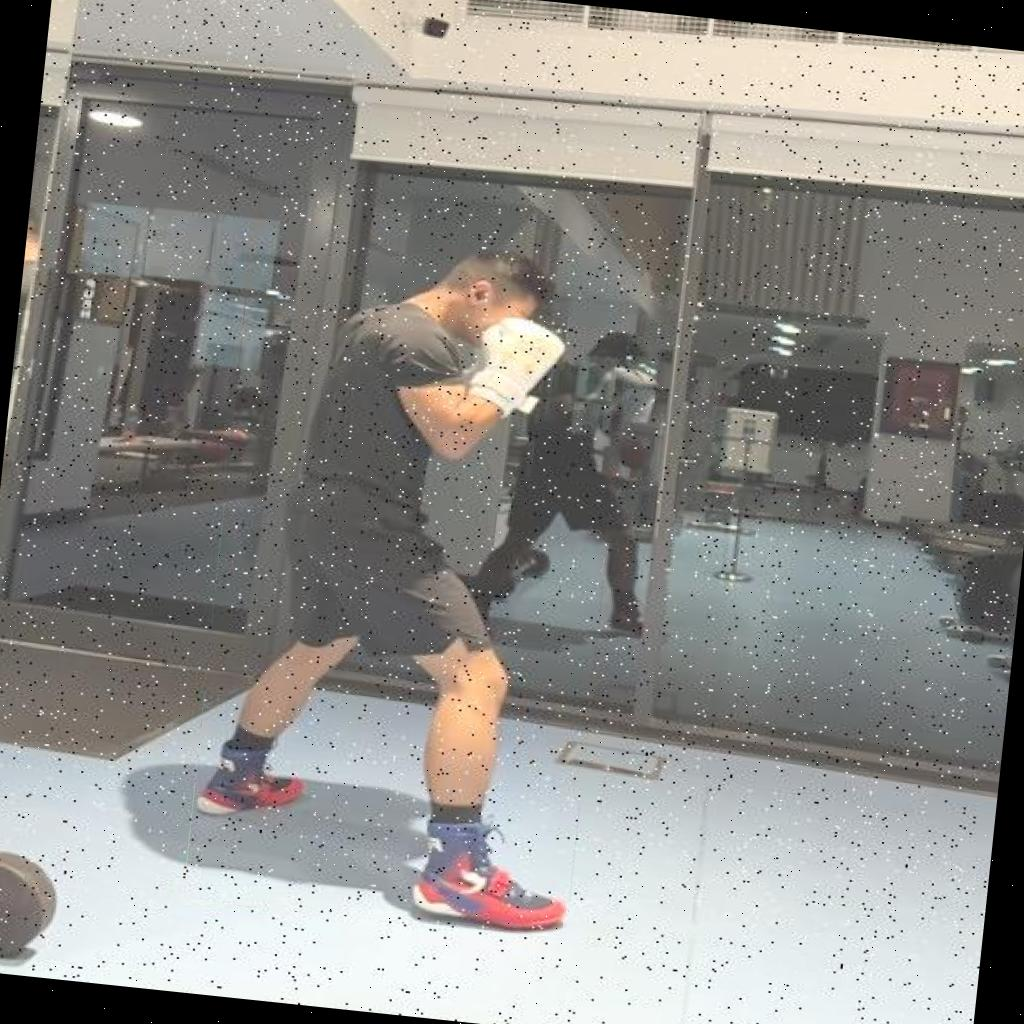no punch: (183, 222, 636, 938)
